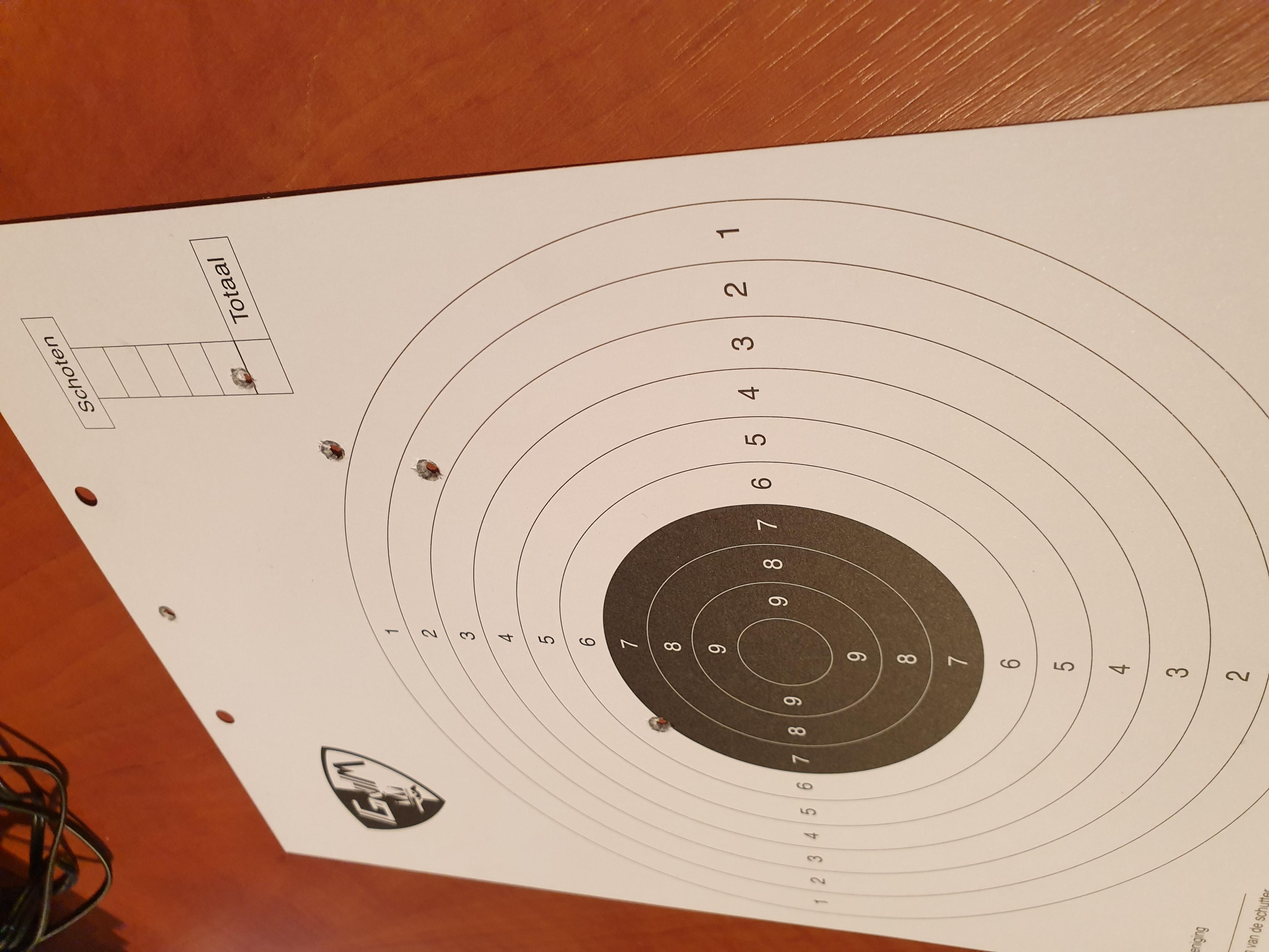hole: (1012, 560, 1040, 586), (826, 469, 855, 493), (923, 489, 953, 512), (597, 218, 623, 236), (1091, 328, 1110, 346)
